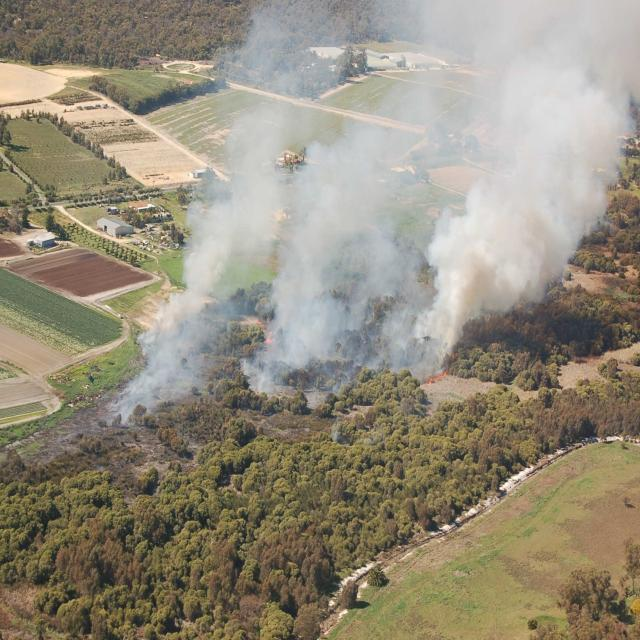Fire: (257, 320, 274, 346), (429, 368, 449, 386), (452, 352, 454, 360)
Smoke: (96, 5, 334, 422), (413, 0, 640, 380), (242, 87, 429, 400)
